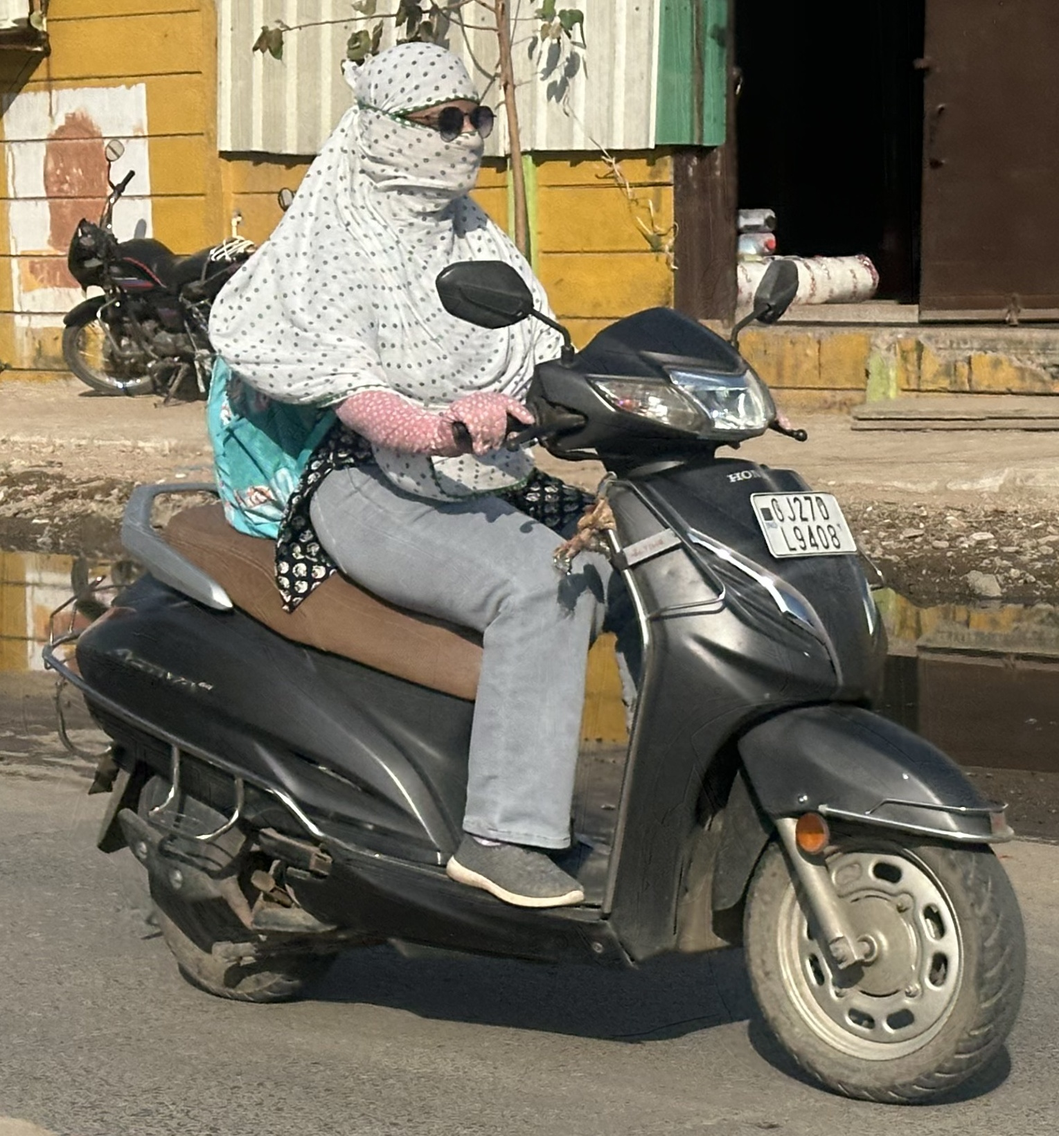BikeWithRider: (44, 34, 1035, 1109)
NoHelmet: (340, 36, 503, 209)
